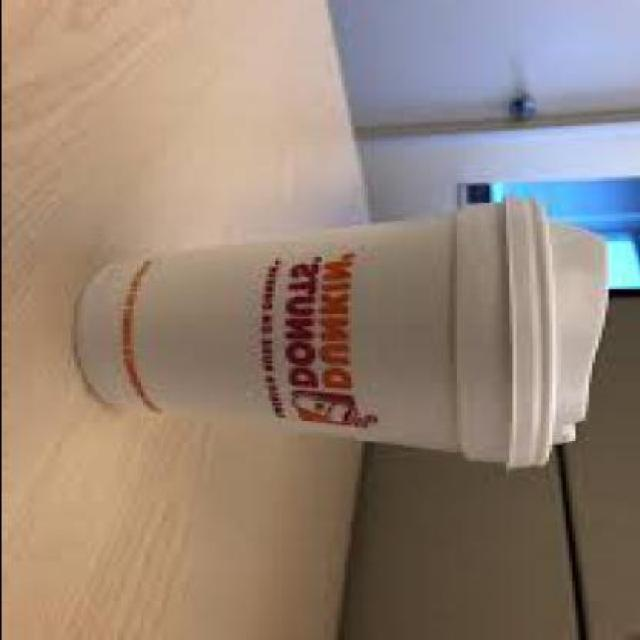PAPER: (76, 205, 512, 464)
